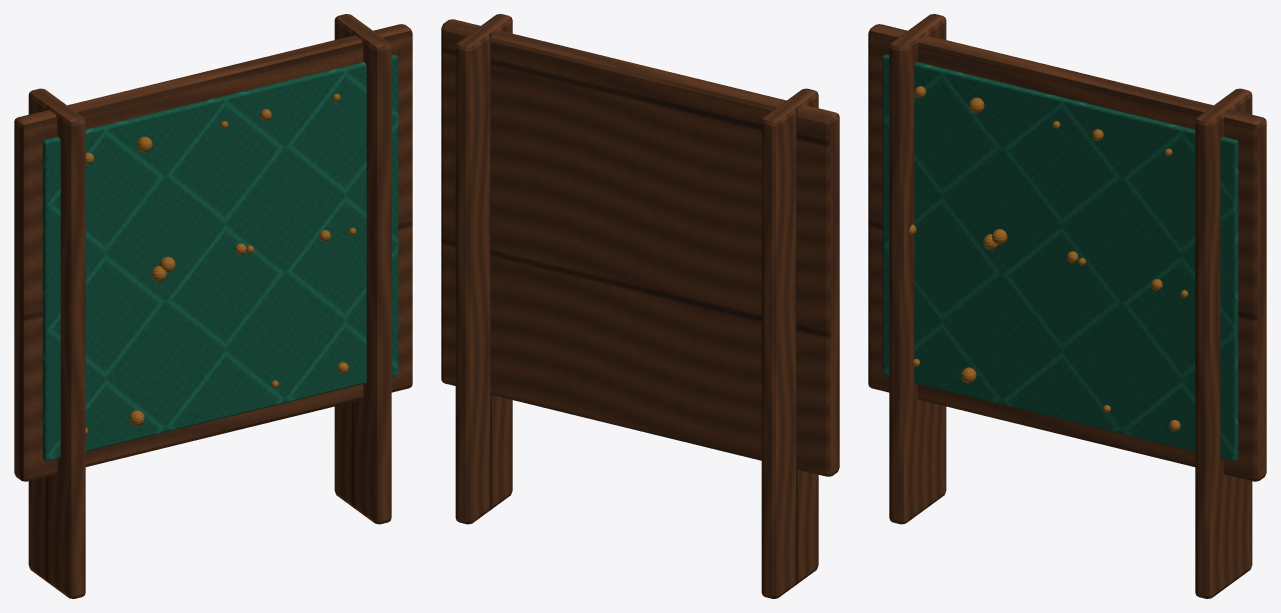
The model's file is star_chart.glb.
The picture shows the model from 3 angles, left to right: view 1: azimuth 30°, elevation 25°; view 2: azimuth 150°, elevation 25°; view 3: azimuth 330°, elevation 25°; orthographic projection.
Parts seen in each view (by area): view 1: star_chart_Silk, star_chart_Walnut, star_chart_Brass; view 2: star_chart_Walnut; view 3: star_chart_Silk, star_chart_Walnut, star_chart_Brass.
Boxes of the visible parts, box(x1,y1,x2,y2) form: star_chart_Silk: box(42, 54, 398, 461); star_chart_Walnut: box(14, 14, 412, 598); star_chart_Brass: box(85, 93, 356, 434); star_chart_Walnut: box(441, 14, 839, 598); star_chart_Silk: box(882, 54, 1238, 461); star_chart_Walnut: box(868, 14, 1266, 598); star_chart_Brass: box(909, 86, 1188, 431).
Bounding box in the file's own units: 2.05 × 2.4 × 0.4.
3 materials, 3 textured.
